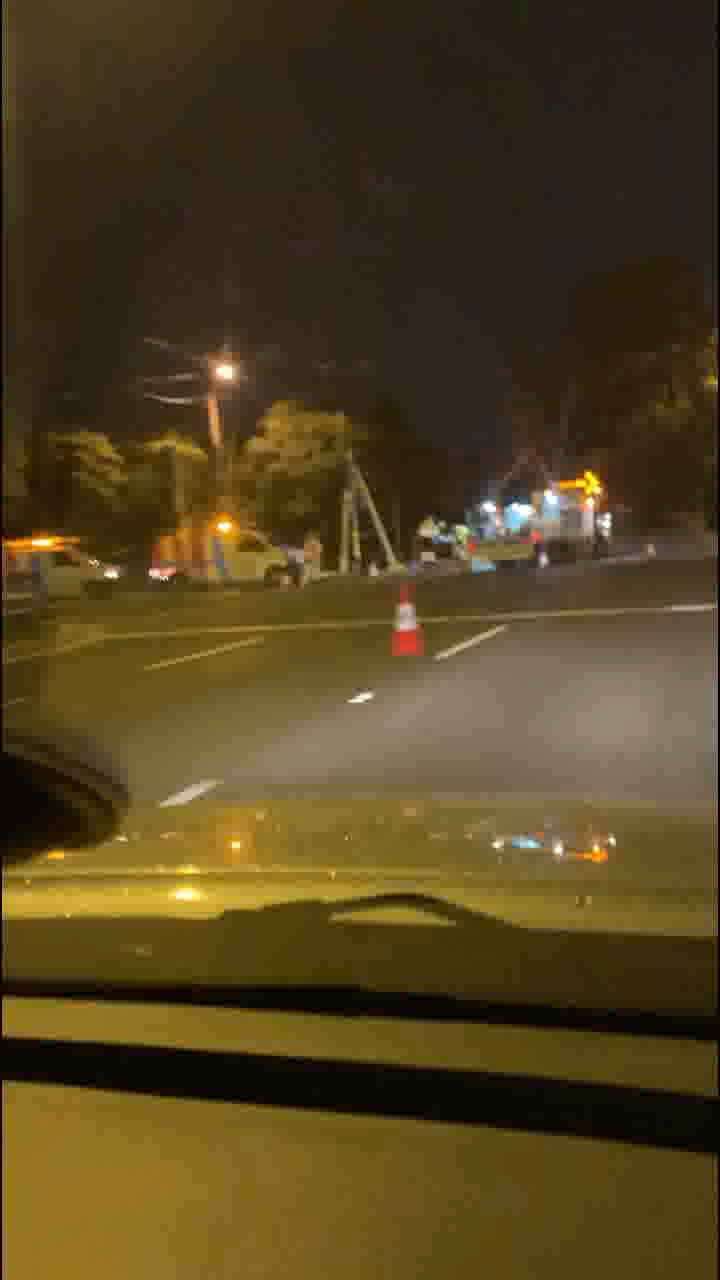road cone: (381, 579, 437, 679)
truck: (420, 463, 618, 569)
van: (145, 525, 306, 588), (4, 540, 120, 607)
